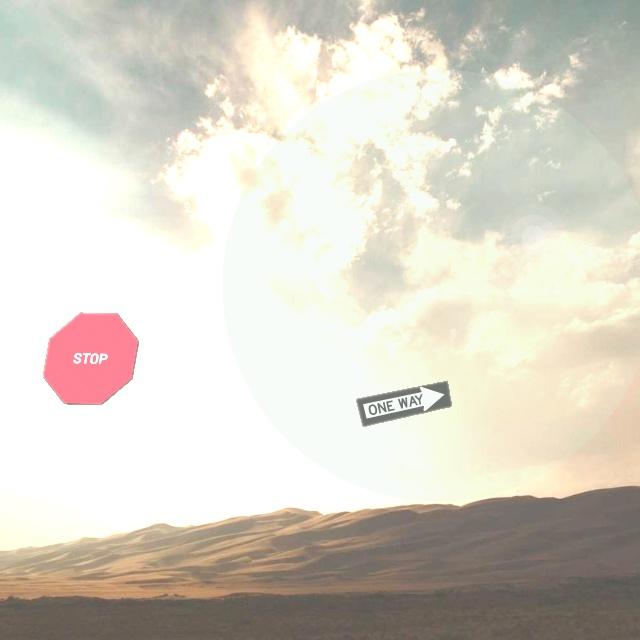ONE_WAY_ right: (355, 380, 452, 427)
STOP: (42, 312, 139, 405)
